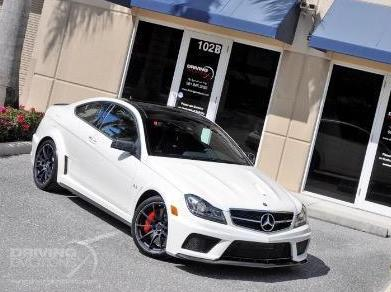C63AMG: (31, 85, 316, 271)
